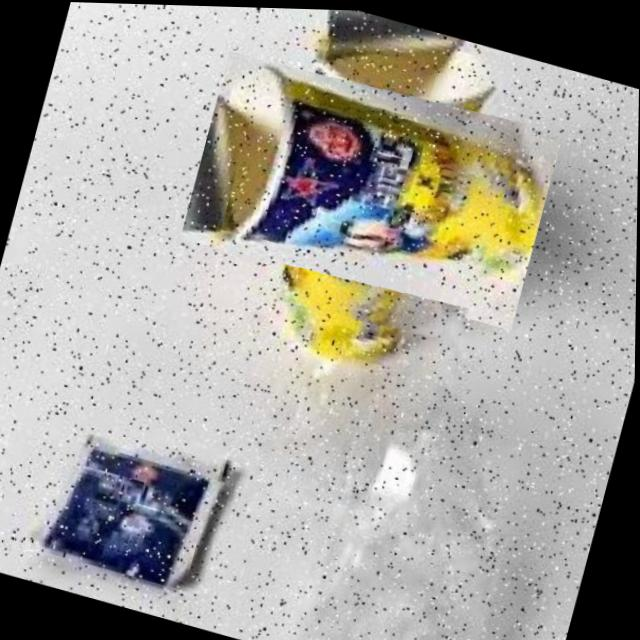Miscellaneous: (206, 22, 536, 354)
